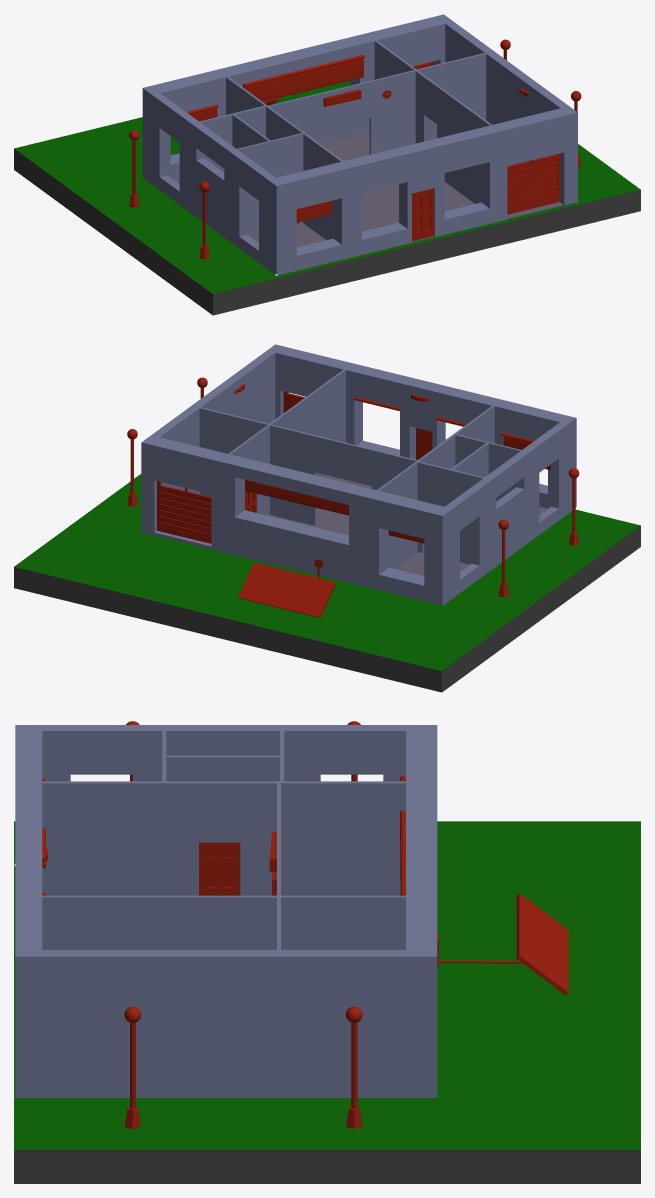
File: modelo_final.glb
The picture shows the model from 3 angles, top to bottom: view 1: azimuth 30°, elevation 25°; view 2: azimuth 150°, elevation 25°; view 3: azimuth 270°, elevation 25°; orthographic projection. The views are drawn at different scales.
Parts seen in each view (by area): view 1: maquetaSTL, Cube.002, Cube.001, Cubo, porton delantero, Cilindro.014, puerta principal, Cilindro.004, Cilindro.005, LUZ Izquierda 1, LUZ Izquierda 2; view 2: maquetaSTL, Cube.002, Cube.001, Cubo.004, porton trasero, Cubo, Cilindro.014; view 3: maquetaSTL, Cube.002, Cube.001, Cubo.004, puerta baño, LUZ Derecha 2, LUZ Derecha 1.
Boxes of the visible parts, x1,y1,x2,y2 form: maquetaSTL: (142, 14, 577, 275); Cube.002: (14, 81, 640, 293); Cube.001: (14, 149, 640, 315); Cubo: (174, 131, 563, 247); porton delantero: (507, 153, 560, 214); Cilindro.014: (243, 58, 363, 101); puerta principal: (412, 188, 433, 241); Cilindro.004: (296, 200, 332, 222); Cilindro.005: (243, 54, 364, 86); LUZ Izquierda 1: (199, 181, 209, 259); LUZ Izquierda 2: (129, 130, 139, 207); maquetaSTL: (141, 344, 576, 605); Cube.002: (14, 474, 640, 670); Cube.001: (14, 526, 640, 692); Cubo.004: (238, 562, 335, 618); porton trasero: (157, 481, 211, 543); Cubo: (269, 475, 547, 575); Cilindro.014: (245, 480, 348, 515); maquetaSTL: (15, 725, 437, 1097); Cube.002: (14, 821, 640, 1149); Cube.001: (14, 1150, 640, 1183); Cubo.004: (516, 893, 568, 995); puerta baño: (199, 842, 240, 895); LUZ Derecha 2: (346, 1006, 362, 1128); LUZ Derecha 1: (124, 1006, 140, 1129).
Bounding box in the file's own units: 2.08 × 0.5288 × 1.68.
